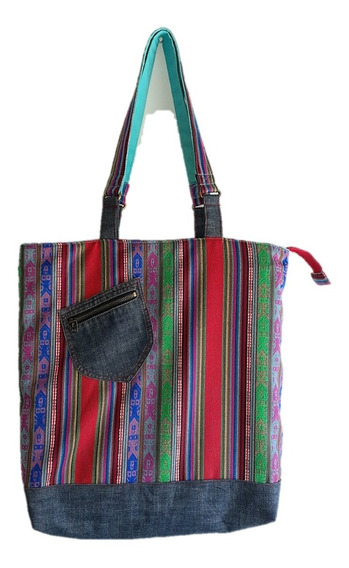cartera: (15, 28, 289, 539)
